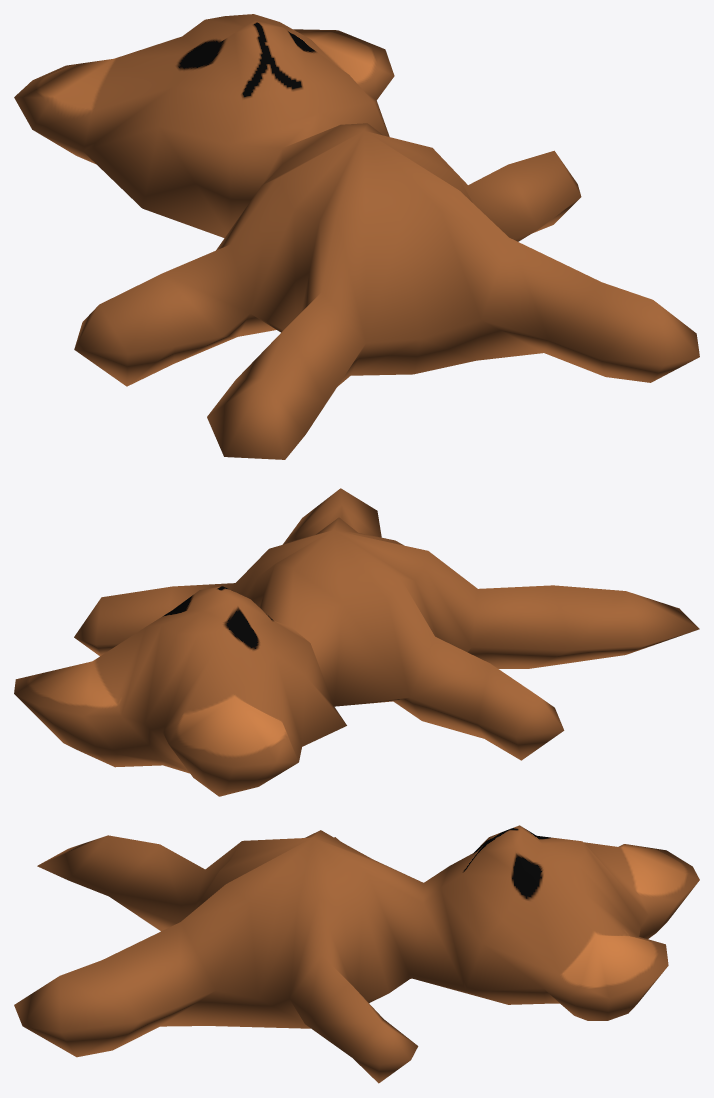
The model's file is teddy.fbx.
3 renders of one model, top to bottom at view 1: azimuth 30°, elevation 25°; view 2: azimuth 150°, elevation 25°; view 3: azimuth 270°, elevation 25°, orthographic. The views are drawn at different scales.
Visible parts, largest first — view 1: Teddy; view 2: Teddy; view 3: Teddy.
Boxes of the visible parts, x1,y1,x2,y2 form: Teddy: (14, 14, 699, 459); Teddy: (14, 488, 699, 796); Teddy: (14, 825, 699, 1083).
Bounding box in the file's own units: 30.21 × 12 × 39.34.
